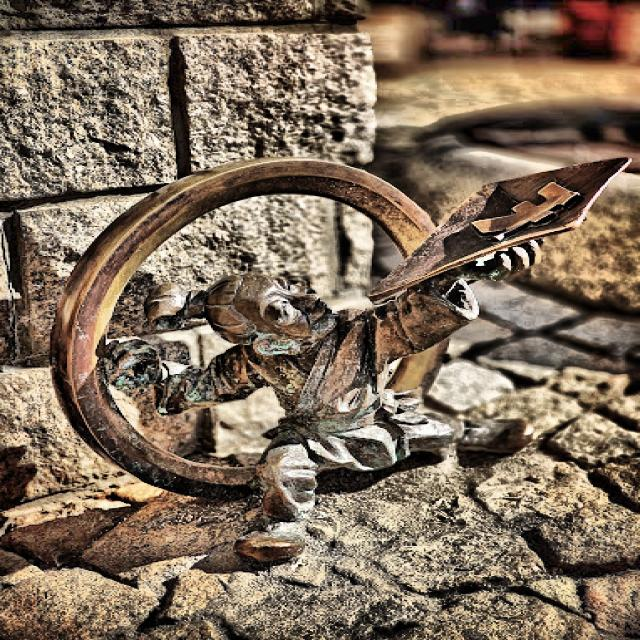TianTian: (52, 159, 626, 560)
